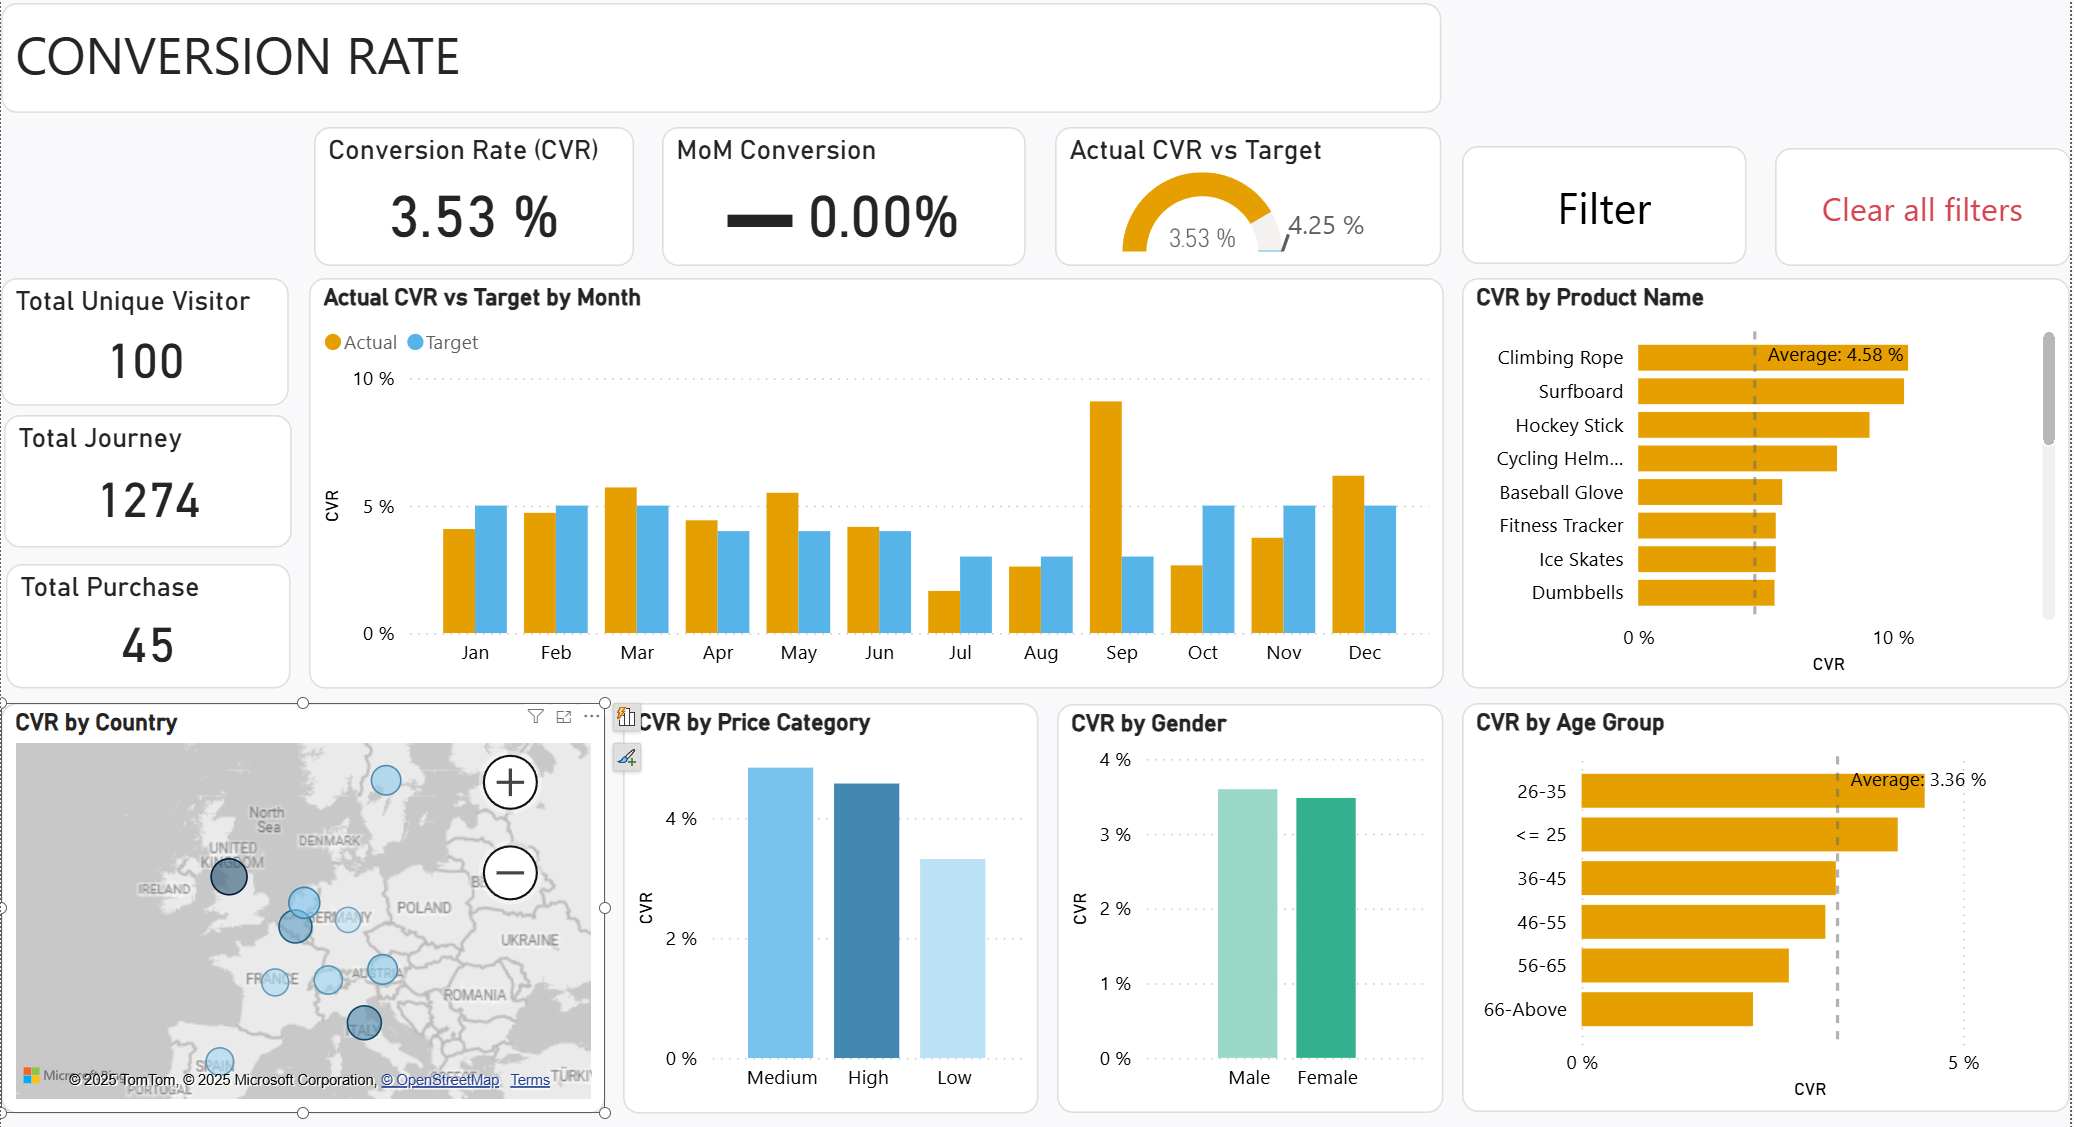

This screenshot's page, from the dashboard's own definition file:
{"tool":"powerbi","page":{"name":"Conversion rate","canvas":[1280,720],"ordinal":0},"visuals":[{"type":"clusteredColumnChart","title":"Actual CVR vs Target by Month","fields":{"Y":["Calculations.Conversion Rate","Calculations.CVR target"],"Category":["Date_Table.MonthNameShort"]},"box":[190.5,193.6,702.1,253.6],"z":0},{"type":"gauge","title":"Actual CVR vs Target","fields":{"Y":["Calculations.Conversion Rate"],"TargetValue":["Calculations.CVR target"]},"box":[651.7,100.1,239,86.4],"z":1000},{"type":"textbox","box":[0,23.5,890.7,68],"z":2000},{"type":"card","title":"Conversion Rate (CVR)","fields":{"Values":["Calculations.Conversion Rate"]},"box":[193.8,100.1,197.9,85.6],"z":3000},{"type":"clusteredBarChart","title":"CVR by Product Name","fields":{"Category":["products.ProductName"],"Y":["Calculations.Conversion Rate"]},"box":[903.7,193.6,376.1,253.6],"z":4000},{"type":"card","title":"Total Journey","fields":{"Values":["Calculations.Total Journey"]},"box":[1.6,278.6,178.5,81.6],"z":5000},{"type":"card","title":"Total Purchase","fields":{"Values":["Calculations.Total Purchase"]},"box":[3.2,370.7,176.1,76.7],"z":6000},{"type":"map","title":"CVR by Country","fields":{"Category":["customers.Country"],"Size":["Calculations.Conversion Rate"]},"box":[0,456.5,373.6,253.6],"z":7000},{"type":"clusteredBarChart","title":"CVR by Age Group","fields":{"Category":["customers.Age Group"],"Y":["Calculations.Conversion Rate"]},"box":[904,456.7,376,253.3],"z":8000},{"type":"card","title":"MoM  Conversion","fields":{"Values":["Calculations.MoM Change (With Symbol)"]},"box":[408.6,100.1,224.5,85.6],"z":9000},{"type":"columnChart","title":"CVR by Price Category","fields":{"Category":["products.PriceCategory"],"Y":["Calculations.Conversion Rate"]},"box":[385,456.5,256.7,253.6],"z":10000},{"type":"card","title":"Total Unique Visitor","fields":{"Values":["Calculations.TotalVisitors"]},"box":[0,193.8,178.5,79.1],"z":11000},{"type":"columnChart","title":"CVR by Gender","fields":{"Category":["customers.Gender"],"Y":["Calculations.Conversion Rate"]},"box":[653.2,457.1,239.4,252.9],"z":12000},{"type":"actionButton","title":"Filter","box":[903.7,112.3,176.1,73.5],"z":14000},{"type":"actionButton","box":[1097.5,113.1,182.5,73.5],"z":15000}]}

Visuals, with their boxes on the page's 1280x720 design canvas (x1, y1, x2, y2). These are canvas units, not pixel positions in the 2074x1127 screenshot, which may show the page scaled, cropped or inside an application window:
"Actual CVR vs Target by Month" clusteredColumnChart: Rect(190, 194, 893, 447)
"Actual CVR vs Target" gauge: Rect(652, 100, 891, 186)
textbox: Rect(0, 24, 891, 92)
"Conversion Rate (CVR)" card: Rect(194, 100, 392, 186)
"CVR by Product Name" clusteredBarChart: Rect(904, 194, 1280, 447)
"Total Journey" card: Rect(2, 279, 180, 360)
"Total Purchase" card: Rect(3, 371, 179, 447)
"CVR by Country" map: Rect(0, 456, 374, 710)
"CVR by Age Group" clusteredBarChart: Rect(904, 457, 1280, 710)
"MoM  Conversion" card: Rect(409, 100, 633, 186)
"CVR by Price Category" columnChart: Rect(385, 456, 642, 710)
"Total Unique Visitor" card: Rect(0, 194, 178, 273)
"CVR by Gender" columnChart: Rect(653, 457, 893, 710)
"Filter" actionButton: Rect(904, 112, 1080, 186)
actionButton: Rect(1098, 113, 1280, 187)
